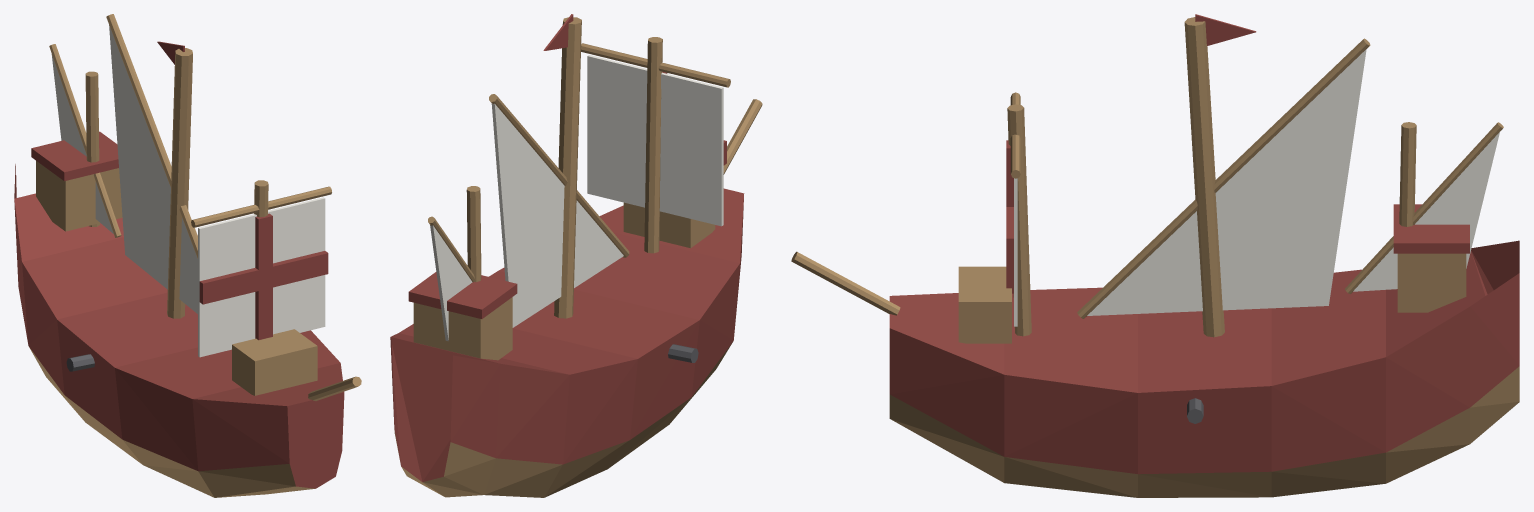
File: Caravel.fbx
The picture shows the model from 3 angles, left to right: view 1: azimuth 30°, elevation 25°; view 2: azimuth 150°, elevation 25°; view 3: azimuth 270°, elevation 25°; orthographic projection. The views are drawn at different scales.
Visible parts, largest first — view 1: Caravel; view 2: Caravel; view 3: Caravel.
Part boxes in pixels (x1,y1,x2,y2): Caravel: (14,14,361,497); Caravel: (390,14,762,497); Caravel: (791,14,1519,497).
Bounding box in the file's own units: 6.69 × 11.01 × 15.92.
